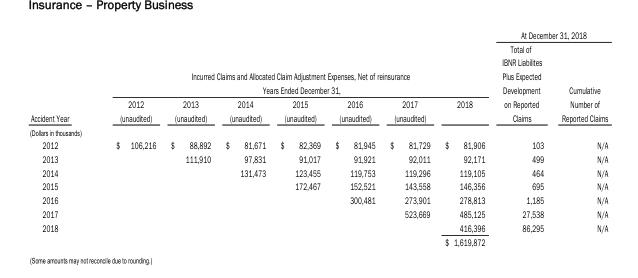table: (29, 28, 607, 246)
table column: (91, 28, 162, 246), (29, 28, 91, 246), (492, 28, 552, 246), (436, 28, 492, 246), (162, 28, 217, 246), (217, 28, 272, 246), (272, 28, 327, 246), (327, 28, 382, 246), (552, 28, 607, 246), (382, 28, 436, 246)
table column header: (29, 28, 607, 110)
table projected row header: (29, 125, 607, 137)
table row: (29, 41, 607, 96), (29, 110, 607, 125), (29, 96, 607, 110), (29, 137, 607, 151), (29, 151, 607, 165), (29, 165, 607, 179), (29, 192, 607, 206), (29, 206, 607, 220), (29, 220, 607, 234), (29, 28, 607, 41), (29, 179, 607, 192), (29, 125, 607, 137), (29, 234, 607, 246)
table spanning cell: (91, 28, 492, 96), (492, 41, 552, 110), (552, 41, 607, 110), (29, 220, 91, 246), (492, 28, 607, 41)
